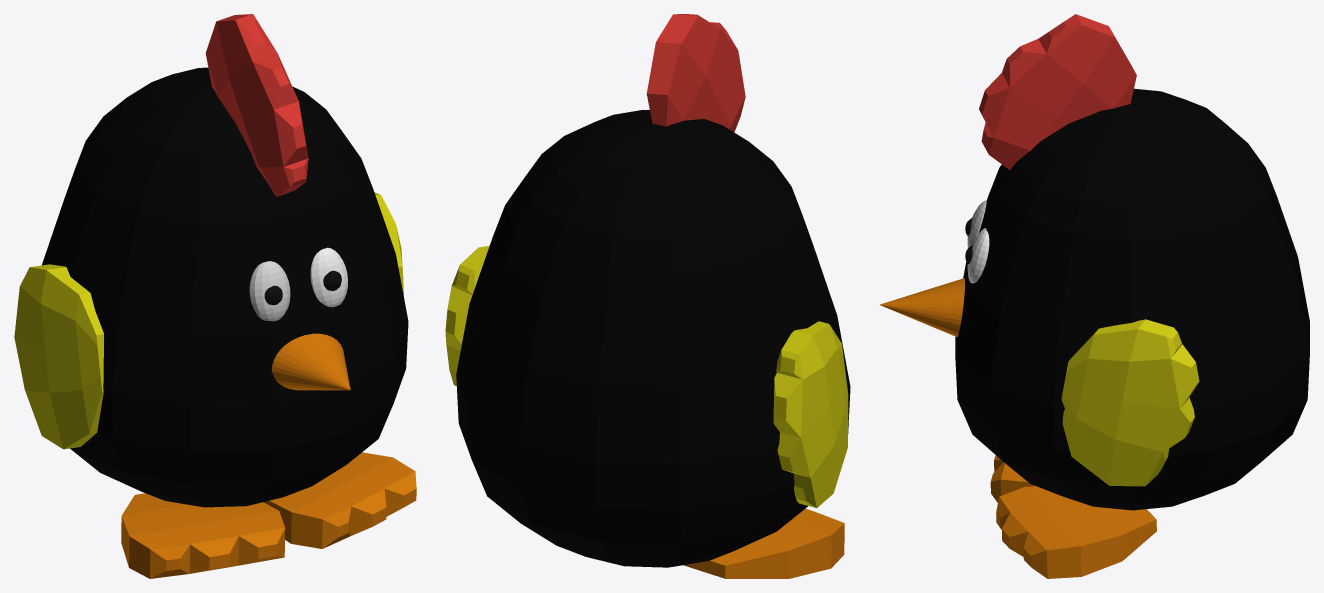
File: pollo.fbx
3 renders of one model, left to right at view 1: azimuth 30°, elevation 25°; view 2: azimuth 150°, elevation 25°; view 3: azimuth 270°, elevation 25°, orthographic. The views are drawn at different scales.
Parts seen in each view (by area): view 1: Sphere.003, Cube.005, Cube.006, Cube.002, Cube.003, Cone, Sphere.004, Sphere.005, Cube.004; view 2: Sphere.003, Cube.005, Cube.006, Cube.002, Cube.004; view 3: Sphere.003, Cube.004, Cube.006, Cube.003, Cone, Cube.002, Sphere.005.
Boxes of the visible parts, <box> form: Sphere.003: <box>42,67,408,507</box>; Cube.005: <box>14,264,103,449</box>; Cube.006: <box>205,14,308,196</box>; Cube.002: <box>121,493,285,578</box>; Cube.003: <box>263,452,416,548</box>; Cone: <box>271,333,350,390</box>; Sphere.004: <box>249,261,290,321</box>; Sphere.005: <box>310,247,347,307</box>; Cube.004: <box>374,192,403,296</box>; Sphere.003: <box>456,110,850,567</box>; Cube.005: <box>773,321,848,508</box>; Cube.006: <box>646,14,745,132</box>; Cube.002: <box>683,508,844,578</box>; Cube.004: <box>445,245,489,385</box>; Sphere.003: <box>955,88,1309,510</box>; Cube.004: <box>1061,319,1199,486</box>; Cube.006: <box>979,14,1136,169</box>; Cube.003: <box>996,486,1156,578</box>; Cone: <box>879,278,964,336</box>; Cube.002: <box>990,455,1035,502</box>; Sphere.005: <box>967,228,989,283</box>.
Size of the model in its own units: 782 by 1100 by 878.
